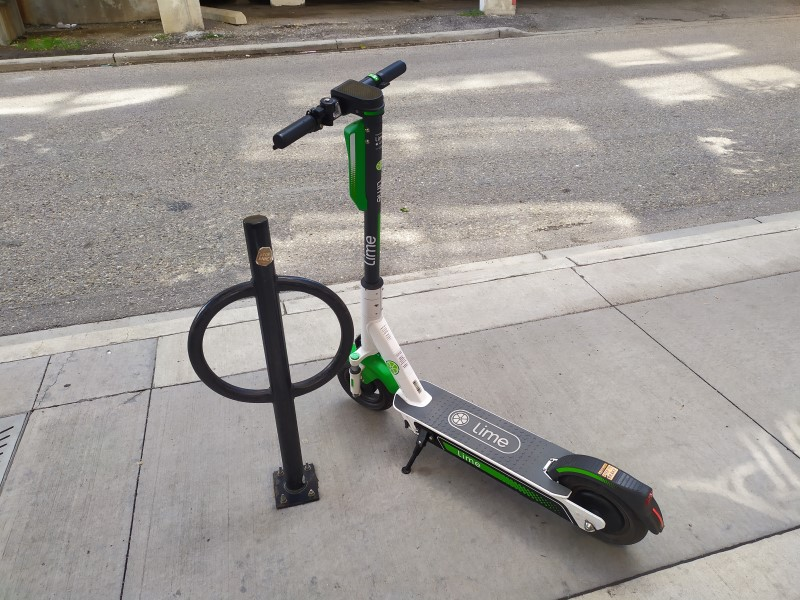scooter: (278, 64, 668, 553)
